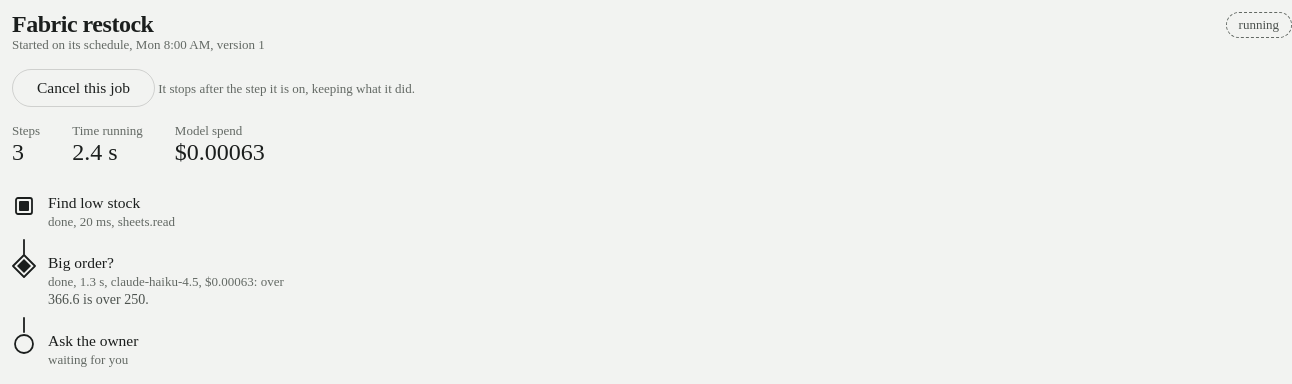
Cancel › is there for the owner while it runs, and ends it
expect the text "It stops after the step it is on, keeping what it did." is shown: met, box [158, 81, 415, 96]
Click the button "Cancel this job" at (84, 88), box [12, 69, 155, 107]
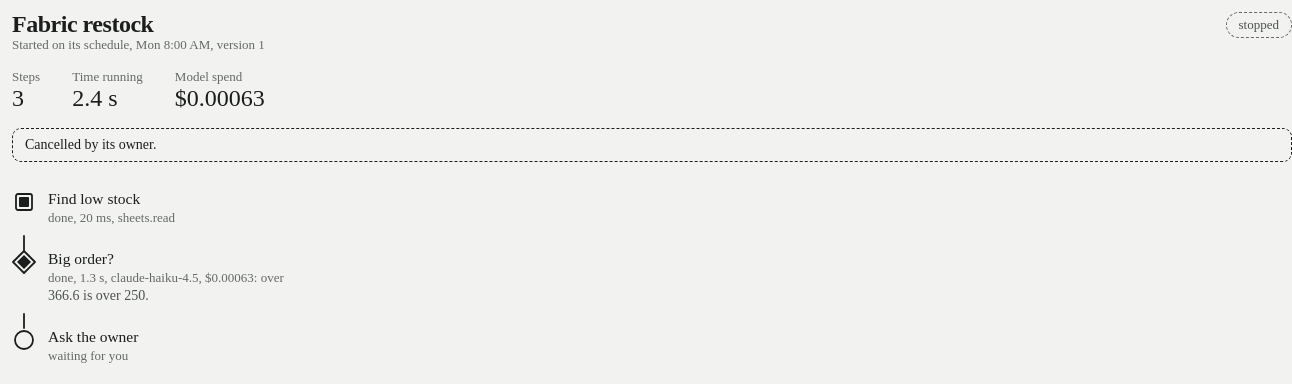
expect the text "stopped" is shown: met, box [1226, 12, 1291, 38]
expect the button "Cancel this job" is gone: met
expect the text "Cancelled by its owner." is shown: met, box [12, 128, 1291, 162]
